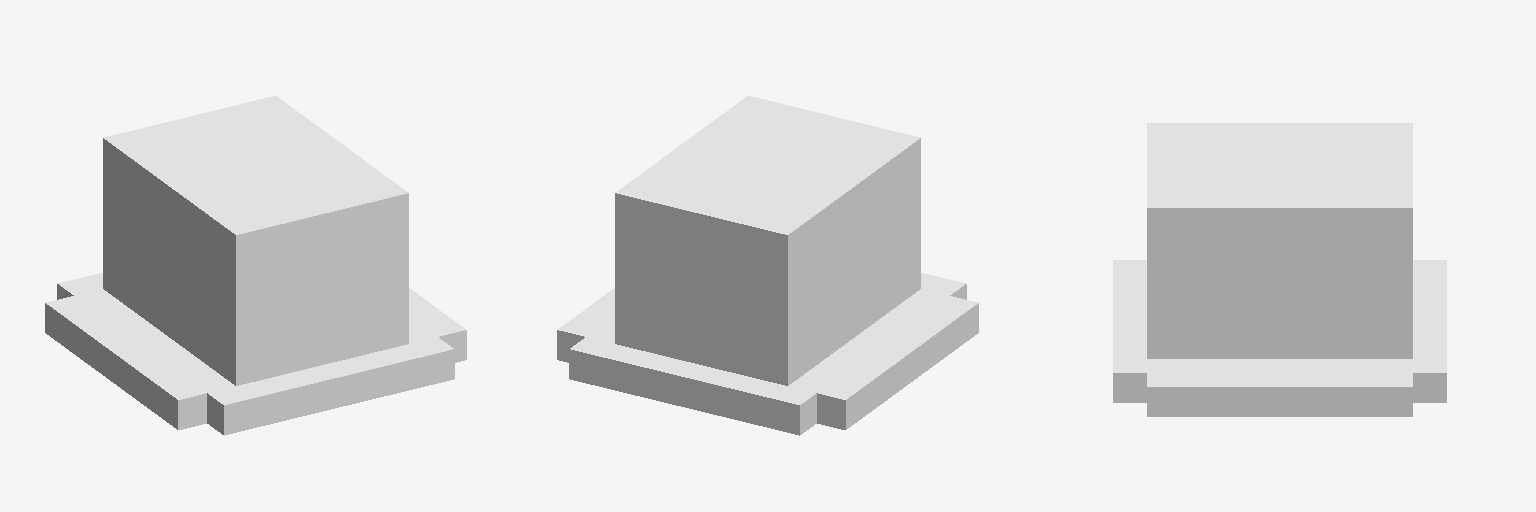
Rendered from hiyayakkomini.obj.
3 views of the same model, side by side, from view 1: azimuth 30°, elevation 25°; view 2: azimuth 150°, elevation 25°; view 3: azimuth 270°, elevation 25° (orthographic).
Parts seen in each view (by area): view 1: object 1; view 2: object 1; view 3: object 1.
Part boxes in pixels (bbox=[...]): object 1: bbox=[45, 96, 466, 435]; object 1: bbox=[557, 96, 978, 435]; object 1: bbox=[1113, 123, 1446, 416].
Size of the model in its own units: 1 by 0.6 by 1.